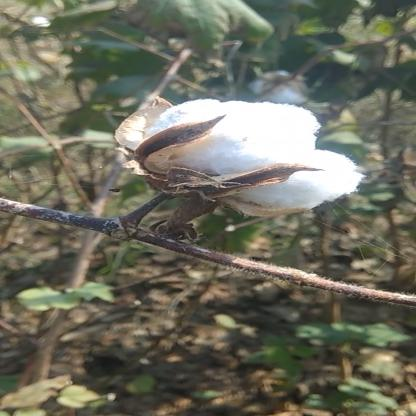cotton_ready: (115, 90, 364, 264)
